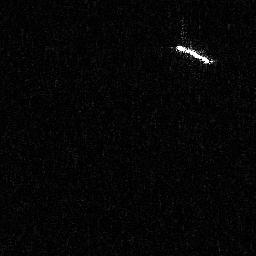ship: (173, 43, 214, 66)
